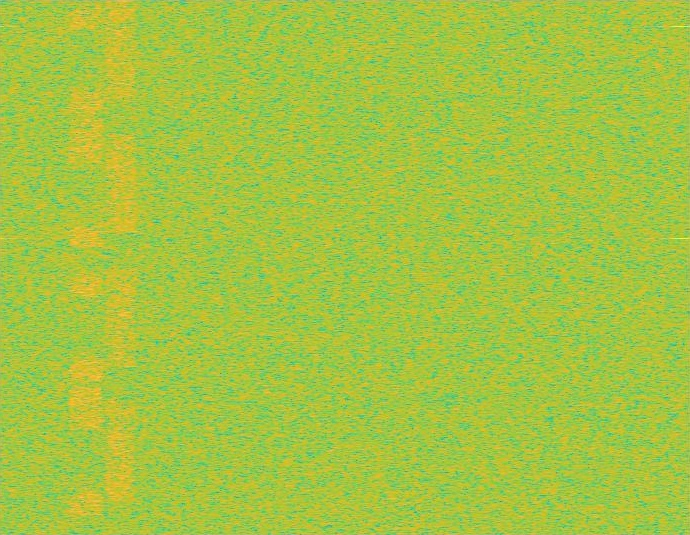5G: (104, 0, 138, 534)
LTE: (69, 0, 104, 534)
Radar: (675, 0, 689, 534)
